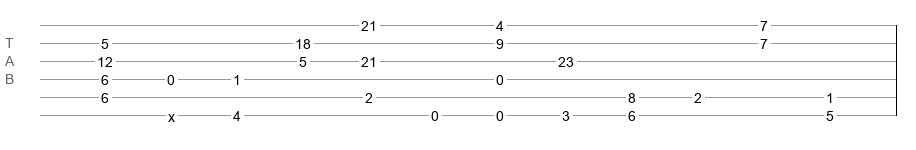0: (167, 72, 175, 82), (431, 108, 439, 118), (496, 108, 504, 118), (496, 72, 504, 82)
1: (233, 72, 241, 82), (826, 90, 834, 100)
12: (97, 54, 113, 64)
18: (295, 36, 311, 46)
2: (365, 90, 373, 100), (694, 90, 702, 100)
21: (361, 18, 377, 28), (361, 54, 377, 64)
23: (558, 54, 574, 64)
3: (562, 108, 570, 118)
4: (233, 108, 241, 118), (496, 18, 504, 28)
5: (101, 36, 109, 46), (299, 54, 307, 64), (826, 108, 834, 118)
6: (101, 90, 109, 100), (101, 72, 109, 82), (628, 108, 636, 118)
7: (760, 18, 768, 28), (760, 36, 768, 46)
8: (628, 90, 636, 100)
9: (496, 36, 504, 46)
x: (168, 109, 175, 117)
